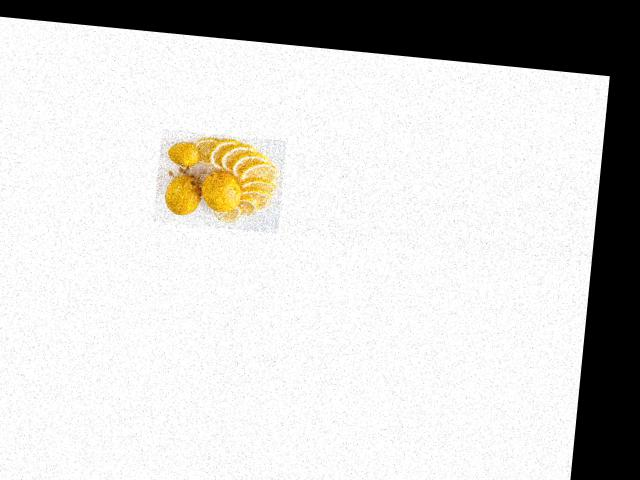lemon: (167, 141, 199, 171)
